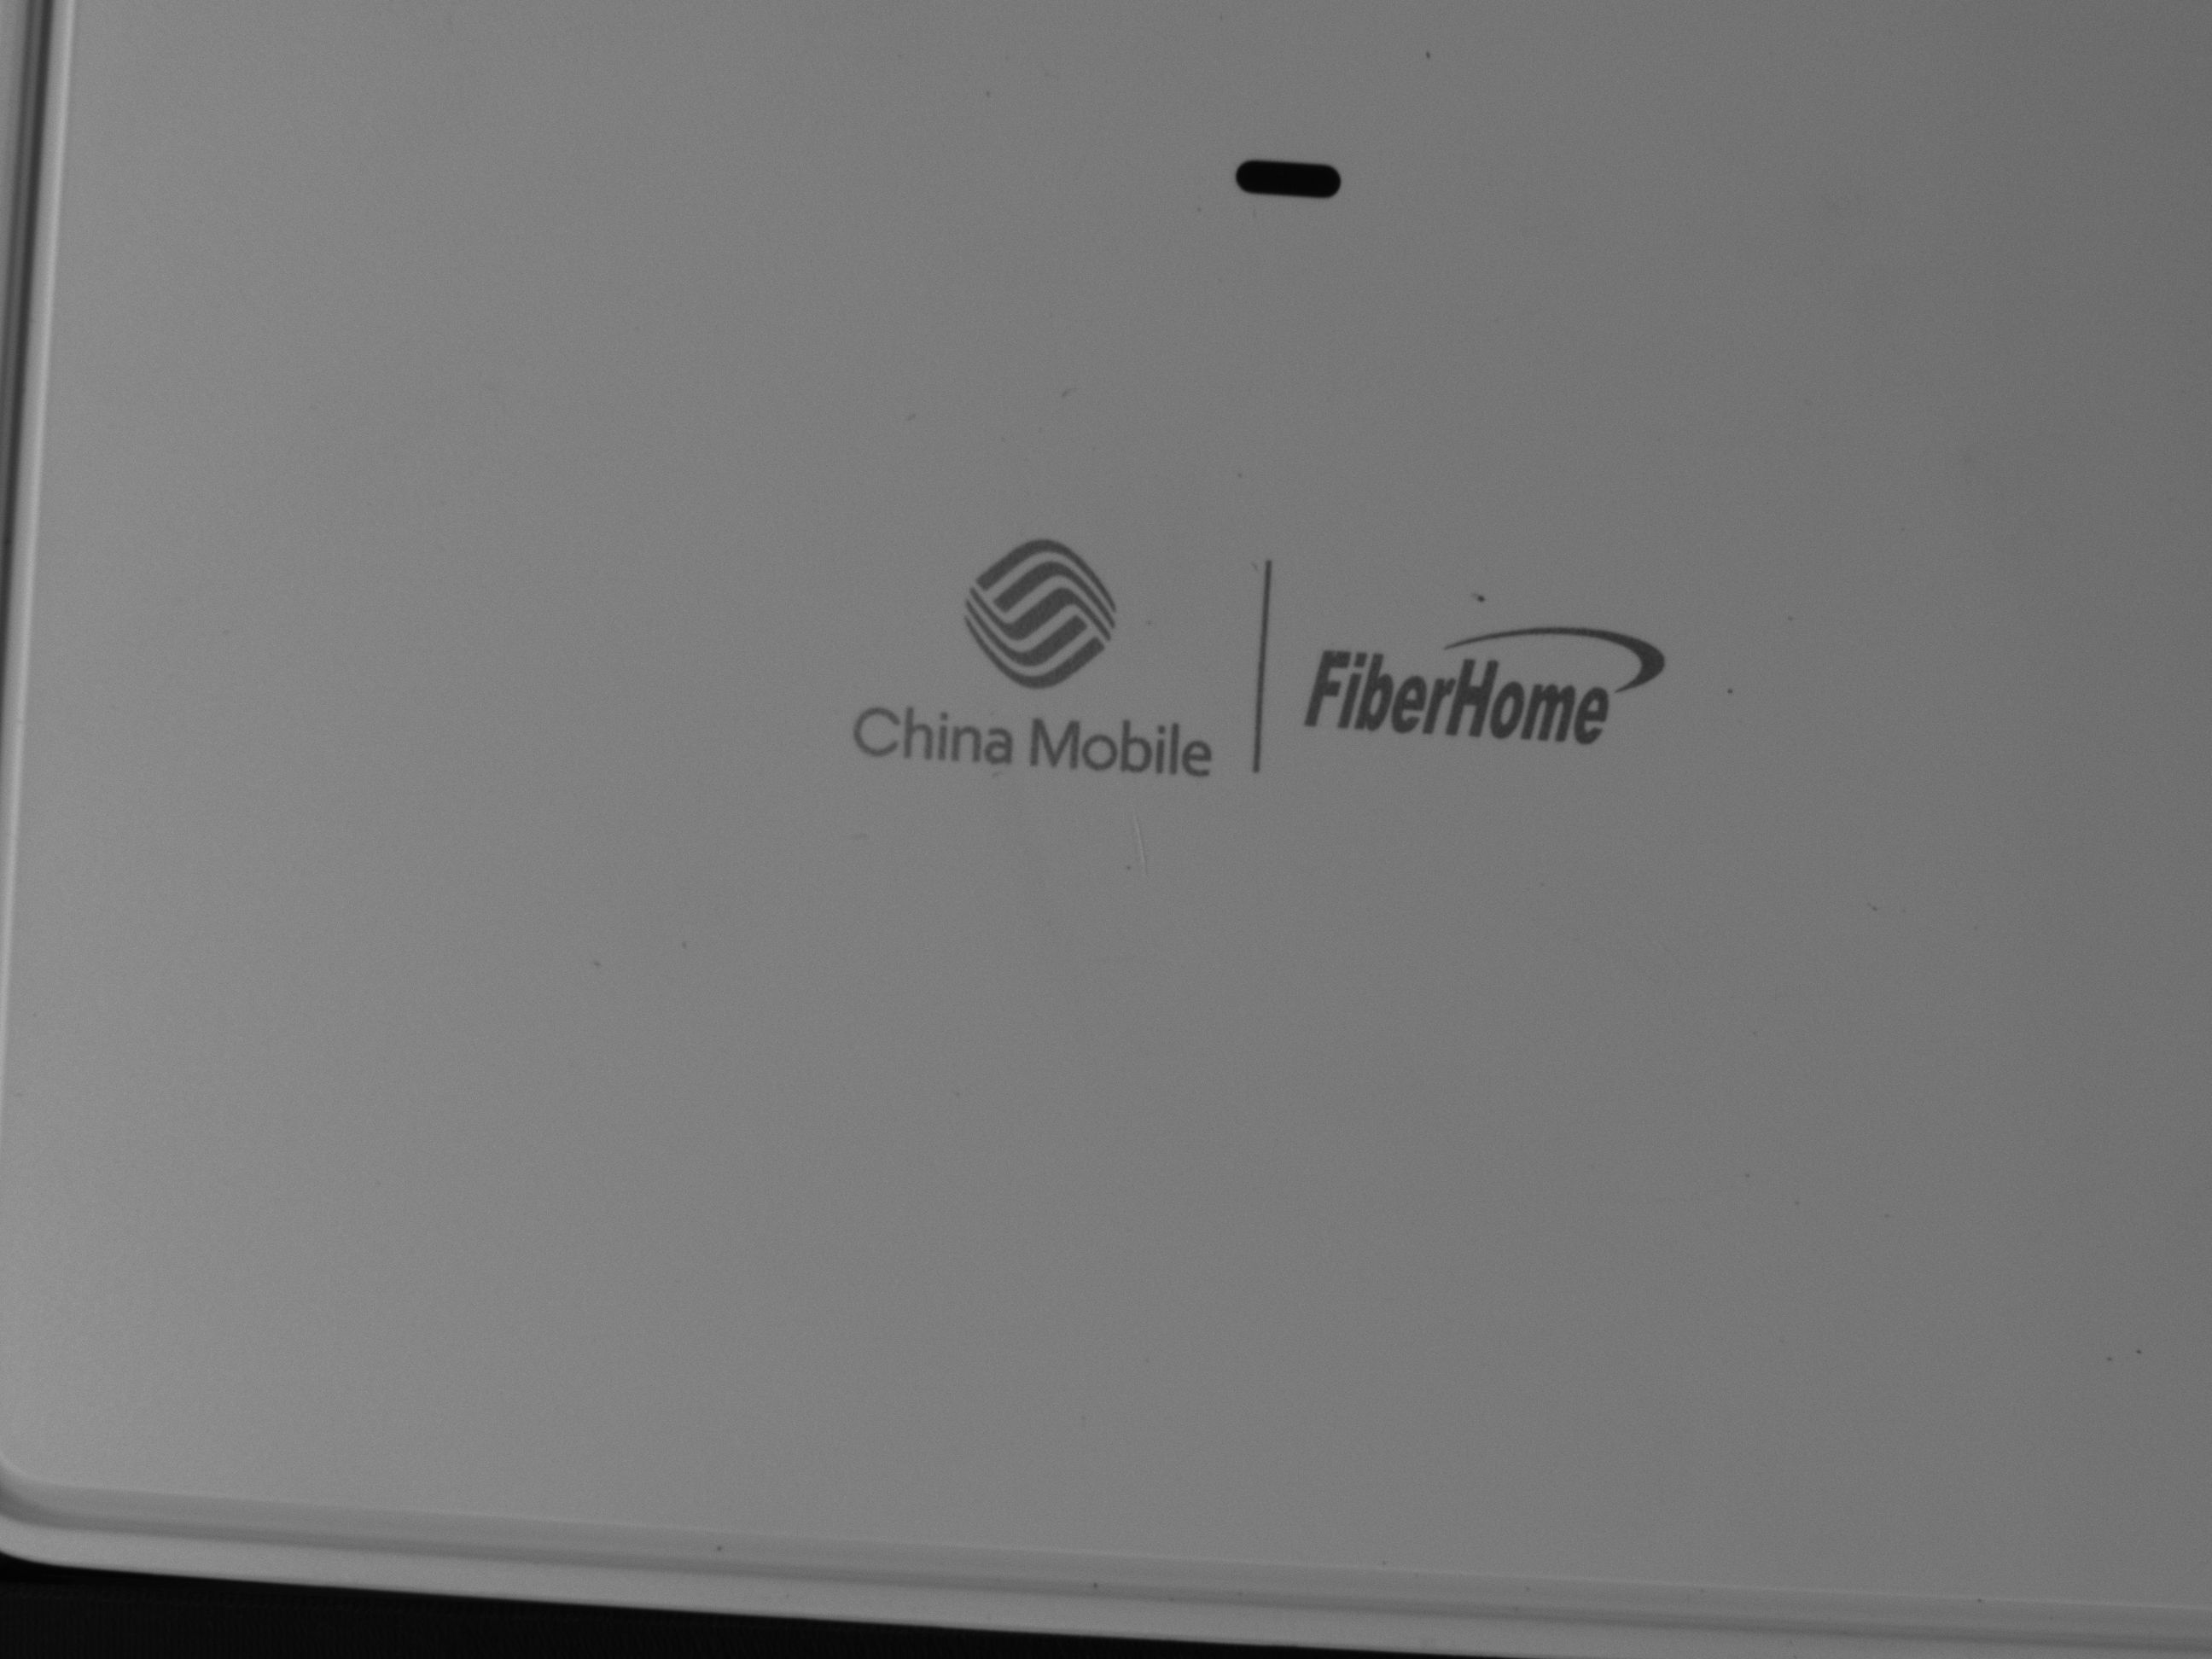BX_HG6371FMobileFiberhome: (829, 514, 1707, 802)
